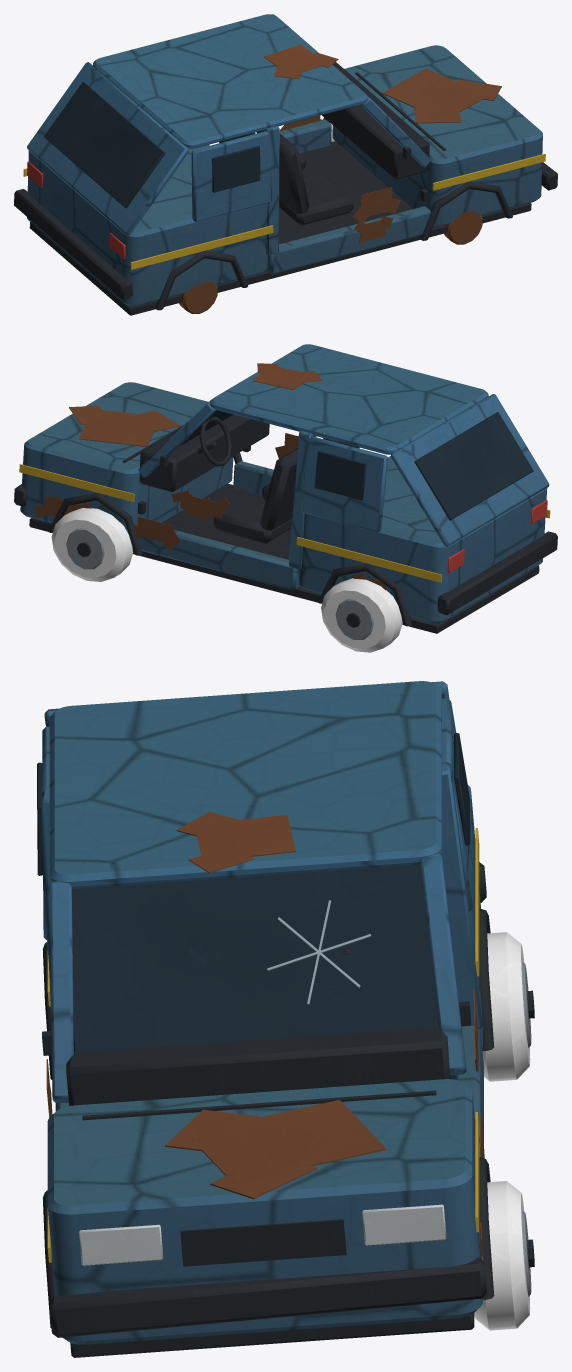
File: car_wreck.glb
3 views of the same model, one above another, from view 1: azimuth 30°, elevation 25°; view 2: azimuth 150°, elevation 25°; view 3: azimuth 270°, elevation 25° (orthographic). The views are drawn at different scales.
Visible parts, largest first — view 1: car_wreck; view 2: car_wreck; view 3: car_wreck.
Boxes of the visible parts, x1,y1,x2,y2 form: car_wreck: (14, 14, 557, 315); car_wreck: (14, 344, 557, 652); car_wreck: (37, 681, 534, 1357).
Bounding box in the file's own units: 3.7 × 1.56 × 1.82.
13 materials, 13 textured.
